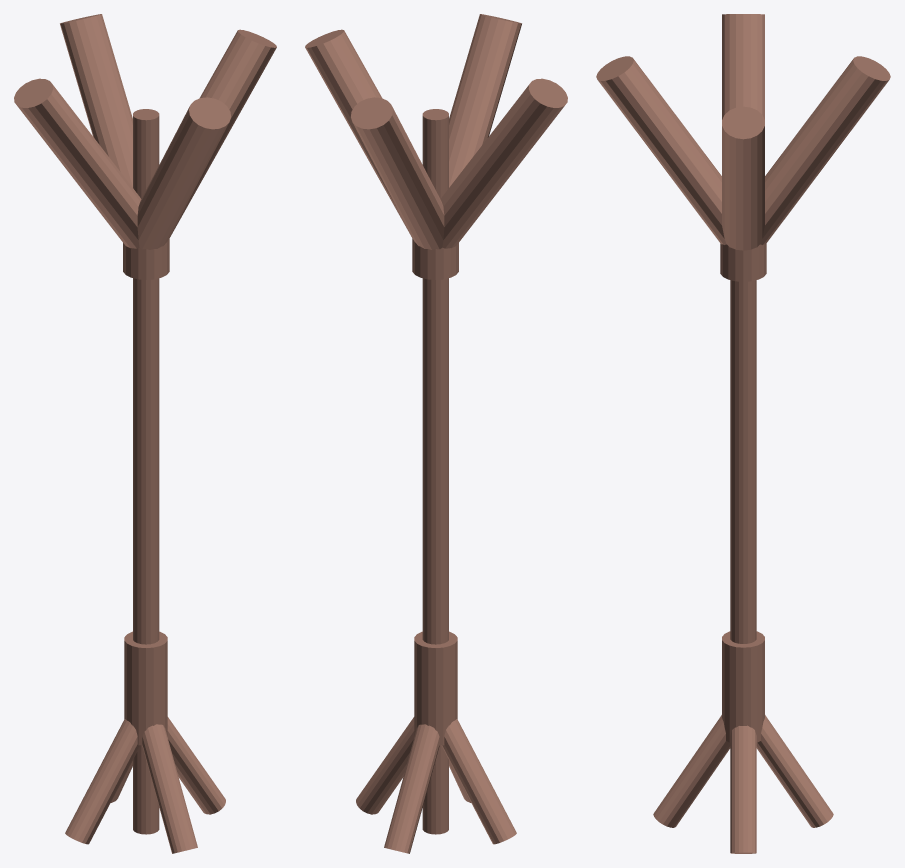
Rendered from 9-VaFd57fTT.glb.
3 renders of one model, left to right at view 1: azimuth 30°, elevation 25°; view 2: azimuth 150°, elevation 25°; view 3: azimuth 270°, elevation 25°, orthographic.
Parts seen in each view (by area): view 1: Cylinder001; view 2: Cylinder001; view 3: Cylinder001.
Boxes of the visible parts, box(x1,y1,x2,y2) form: Cylinder001: box(14, 14, 276, 853); Cylinder001: box(305, 14, 567, 853); Cylinder001: box(596, 14, 890, 853).
Size of the model in its own units: 0.3482 by 1 by 0.3482.
